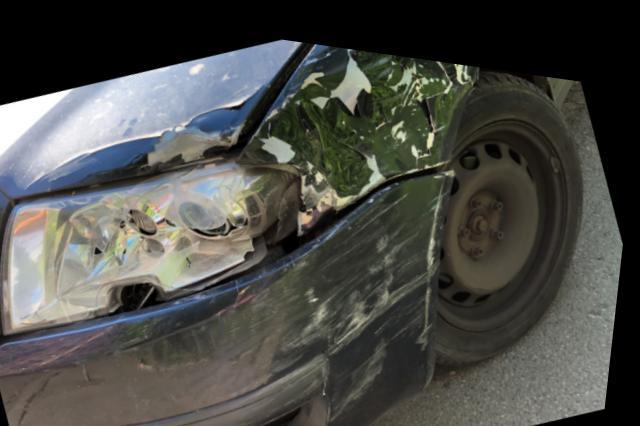dent: (255, 37, 483, 193)
dislocated part: (27, 32, 323, 196)
lamp broken: (6, 150, 304, 338)
scratch: (235, 166, 455, 408)
